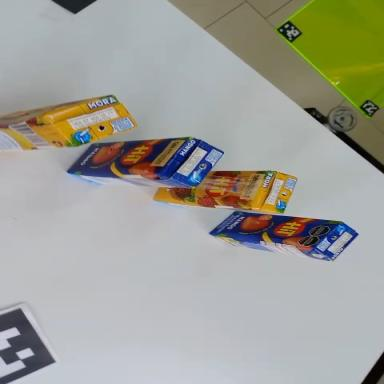HIT-MANGO: (208, 208, 359, 264), (68, 136, 224, 188)
HIT-MORA: (0, 91, 138, 159), (154, 171, 297, 213)
cara_F: (208, 209, 341, 251), (0, 83, 112, 128), (66, 137, 191, 177), (153, 171, 268, 208)
